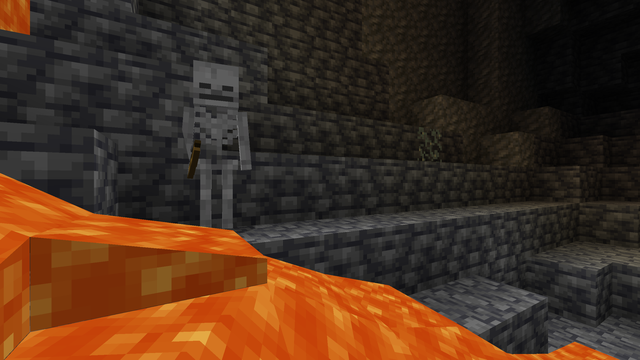squelettes: (189, 57, 246, 190)
